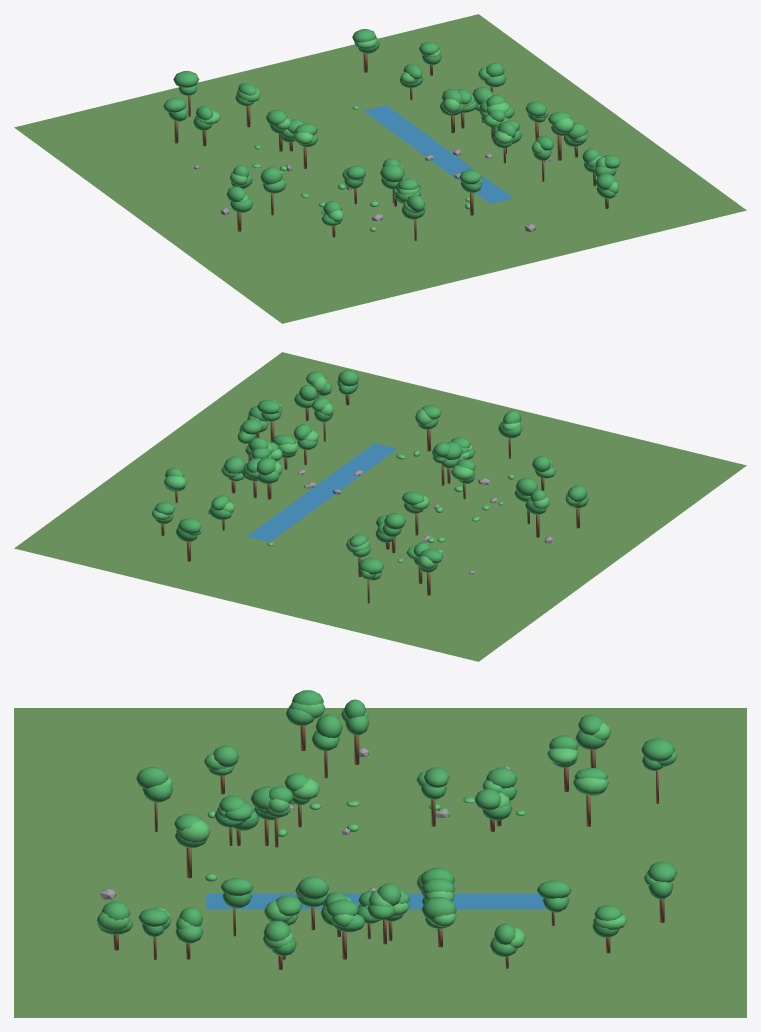
Rendered from Jungle.fbx.
3 views of the same model, one above another, from view 1: azimuth 30°, elevation 25°; view 2: azimuth 150°, elevation 25°; view 3: azimuth 270°, elevation 25° (orthographic). The views are drawn at different scales.
Parts seen in each view (by area): view 1: JungleEnvironment; view 2: JungleEnvironment; view 3: JungleEnvironment.
Part boxes in pixels (x1,y1,x2,y2): JungleEnvironment: (14,14,746,323); JungleEnvironment: (14,352,746,661); JungleEnvironment: (14,690,746,1017).
Size of the model in its own units: 80 by 8.08 by 80.
